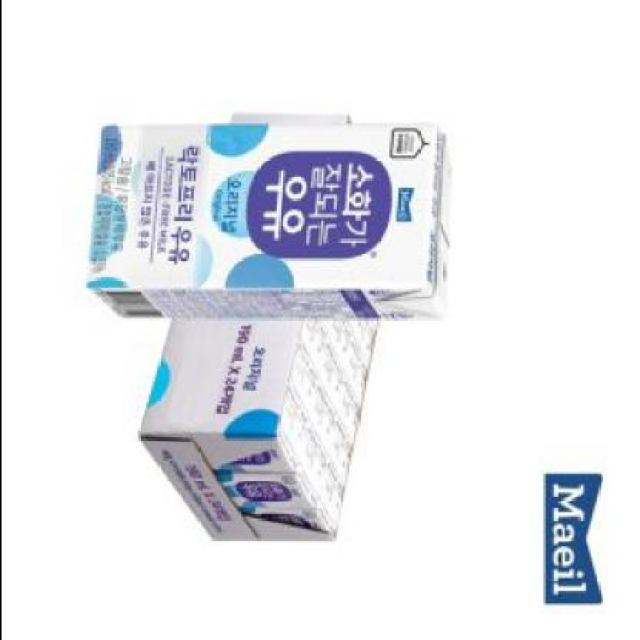tetra: (67, 81, 493, 352)
